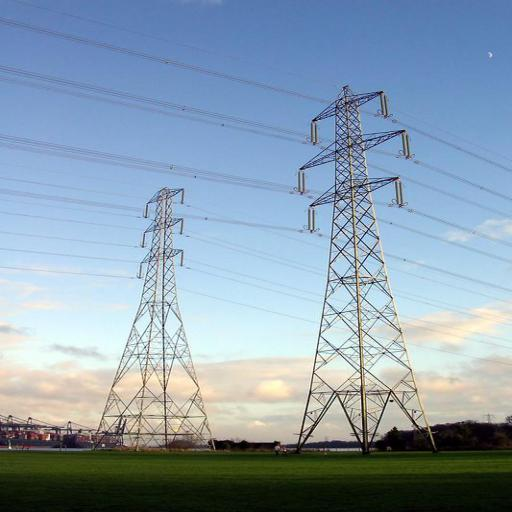ss_3: (296, 83, 448, 462), (98, 184, 221, 450)
